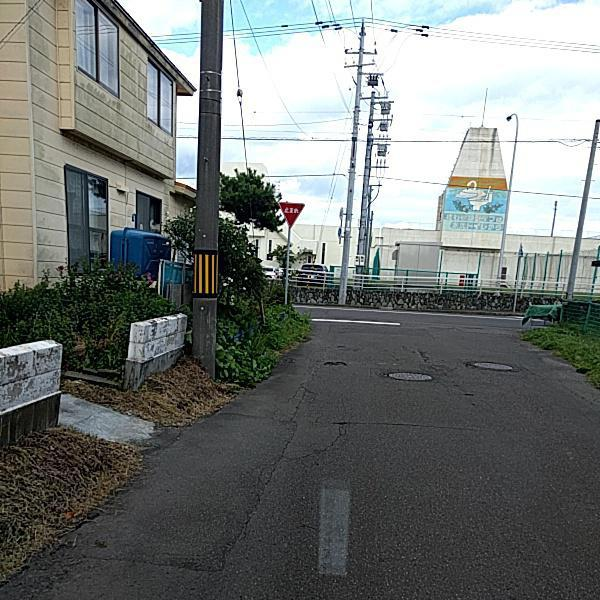D10: (325, 414, 480, 437)
D20: (267, 374, 354, 461)
D50: (388, 368, 433, 383), (468, 359, 513, 368)
